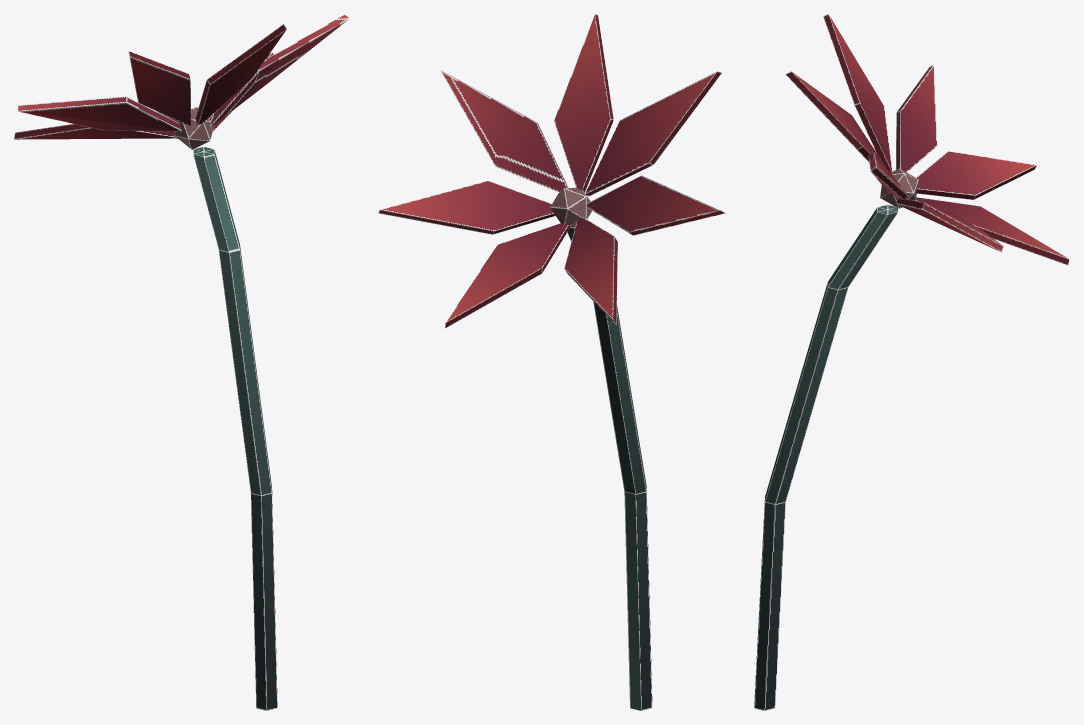
Rendered from Flor Curva 3.obj.
3 renders of one model, left to right at view 1: azimuth 30°, elevation 25°; view 2: azimuth 150°, elevation 25°; view 3: azimuth 270°, elevation 25°, orthographic. The views are drawn at different scales.
Parts seen in each view (by area): view 1: Flor Curva 3; view 2: Flor Curva 3; view 3: Flor Curva 3.
Boxes of the visible parts, <box> form: Flor Curva 3: <box>14,14,349,710</box>; Flor Curva 3: <box>378,14,725,710</box>; Flor Curva 3: <box>754,14,1069,710</box>.
Size of the model in its own units: 0.3127 by 0.6563 by 0.2889.
1 material, 1 textured.
